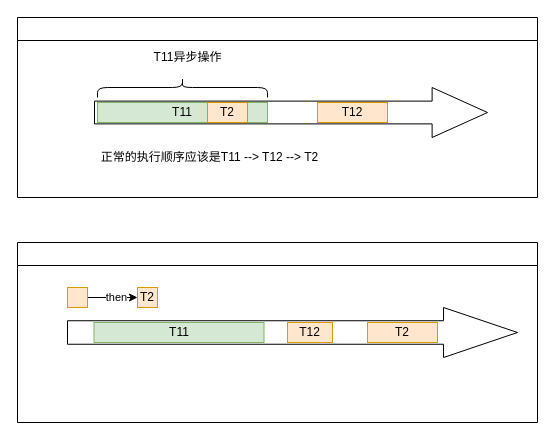
The diagram is 555 pixels wide and 440 high, and some of its shapes have lost their labels. The shapes that lost their labels are listed below. From the top down, each one's box as (x1, y1, x2, y2) in pixels, then its label:
(16, 16, 538, 198): 乱序
(66, 286, 88, 308): T1
(16, 242, 538, 422): 控制异步操作同步执行
